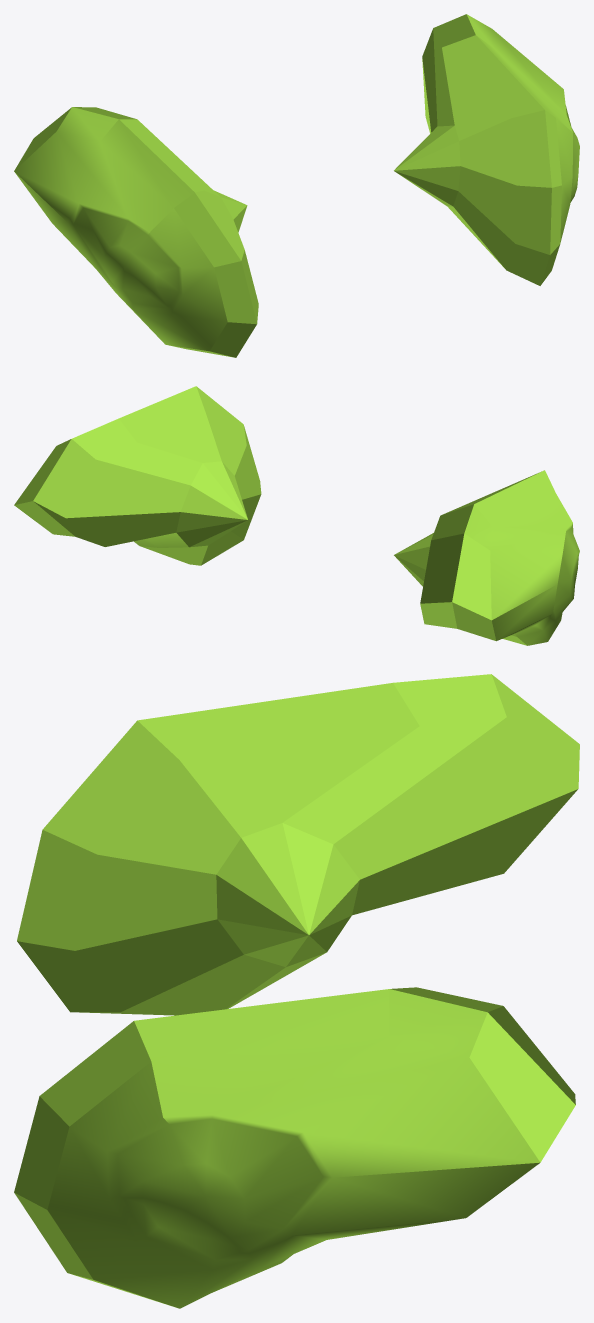
Rendered from Globus01a.fbx.
3 views of the same model, one above another, from view 1: azimuth 30°, elevation 25°; view 2: azimuth 150°, elevation 25°; view 3: azimuth 270°, elevation 25° (orthographic). The views are drawn at different scales.
Visible parts, largest first — view 1: globus, globusMir; view 2: globusMir, globus; view 3: globus, globusMir.
Boxes of the visible parts, x1,y1,x2,y2 form: globus: (14,107,258,357); globusMir: (394,14,579,285); globusMir: (14,386,261,565); globus: (394,470,579,645); globus: (17,674,579,1015); globusMir: (14,987,575,1308).
Bounding box in the file's own units: 2638 × 975 × 1516.
